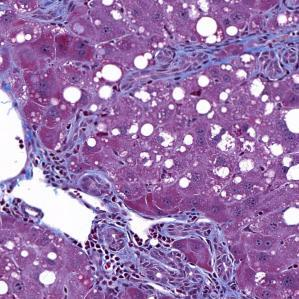fibrosis: (92, 202, 225, 295), (192, 28, 293, 84), (34, 118, 92, 179)
